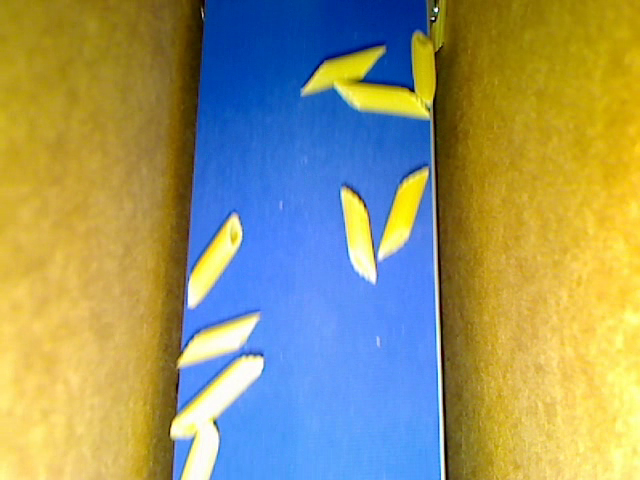penne: (170, 356, 268, 439), (183, 209, 246, 306), (300, 42, 396, 100), (178, 306, 269, 364), (376, 165, 427, 259), (334, 80, 430, 119), (339, 183, 374, 287), (170, 421, 219, 479), (409, 26, 438, 106), (426, 1, 447, 51)
